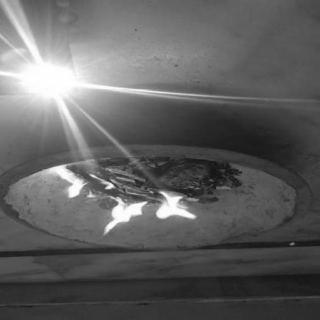Fire: (41, 166, 116, 203)
